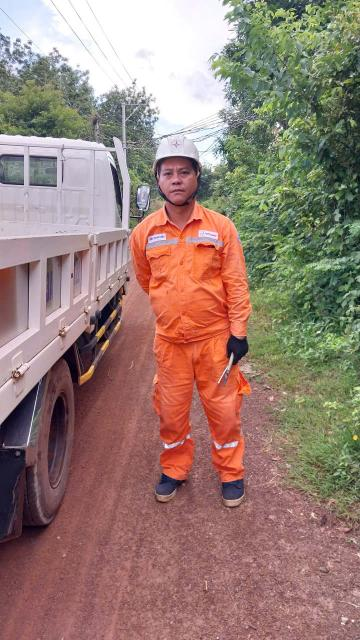gloves: (223, 329, 253, 368)
helmet: (149, 136, 210, 170)
shoes: (148, 460, 193, 510), (214, 474, 256, 505)
